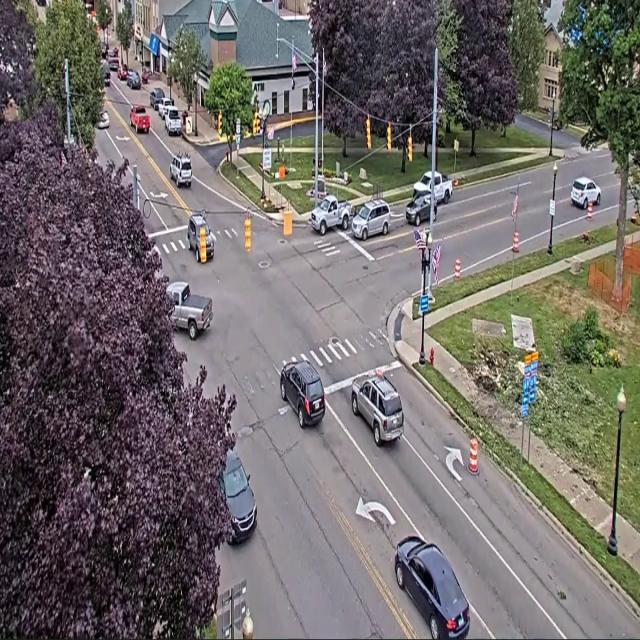car: (395, 536, 469, 639), (351, 370, 403, 446), (221, 450, 256, 543), (280, 361, 325, 428), (352, 200, 390, 240), (187, 213, 215, 262), (571, 177, 600, 209), (170, 153, 192, 187), (406, 194, 430, 225), (157, 97, 173, 119), (150, 88, 164, 110), (127, 71, 141, 89), (108, 55, 120, 72), (98, 112, 109, 129), (117, 64, 128, 81), (104, 65, 110, 86), (101, 42, 108, 58), (109, 47, 118, 56)
traffic signal: (244, 215, 252, 252), (386, 124, 392, 151), (366, 117, 371, 149), (253, 112, 259, 136), (408, 135, 412, 161), (218, 112, 222, 136)
truck: (167, 282, 212, 340), (309, 195, 352, 235), (414, 172, 453, 204), (130, 105, 150, 133), (164, 107, 181, 135)
